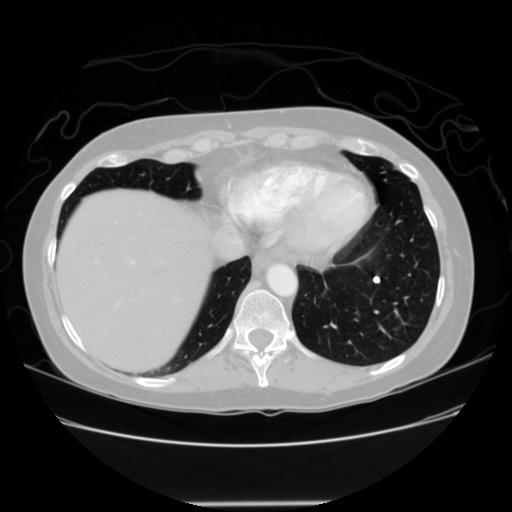nodule: (370, 273, 383, 286)
